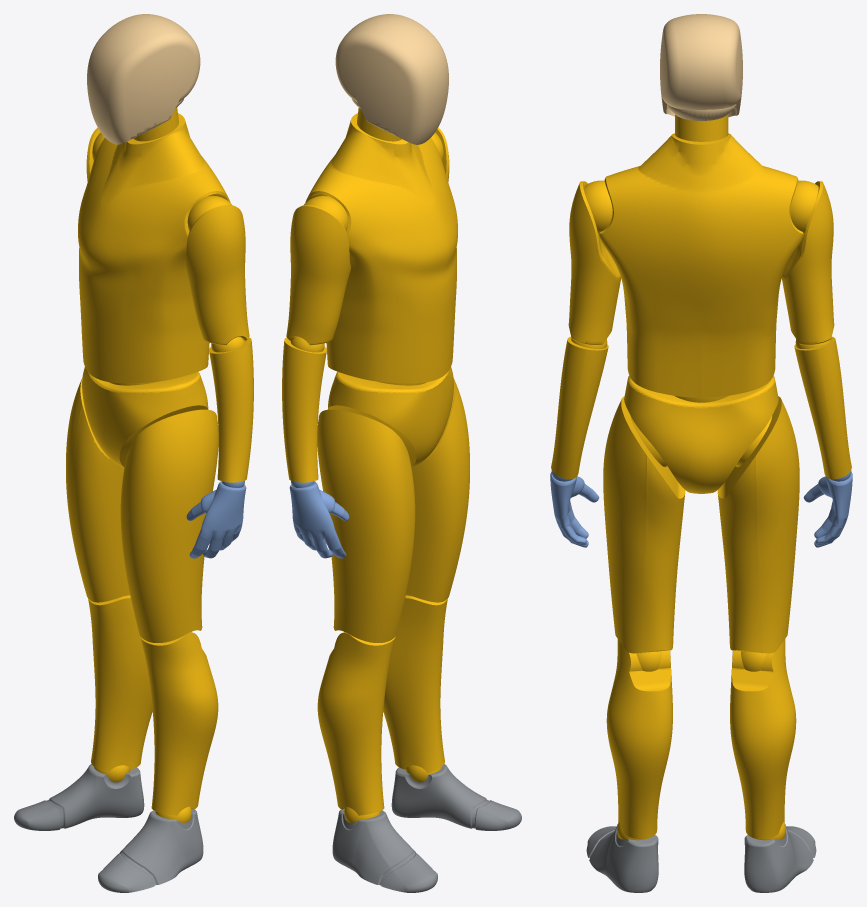
Rendered from human_1a.glb.
3 views of the same model, side by side, from view 1: azimuth 30°, elevation 25°; view 2: azimuth 150°, elevation 25°; view 3: azimuth 270°, elevation 25° (orthographic). The views are drawn at different scales.
Parts seen in each view (by area): view 1: Material0 (×13); view 2: Material0 (×13); view 3: Material0 (×15).
Part boxes in pixels (x1=…): Material0 (×13): x1=14, y1=14, x2=253, y2=892; Material0 (×13): x1=282, y1=14, x2=521, y2=892; Material0 (×15): x1=550, y1=14, x2=852, y2=892.
Bounding box in the file's own units: 0.3308 × 1.75 × 0.5553.
